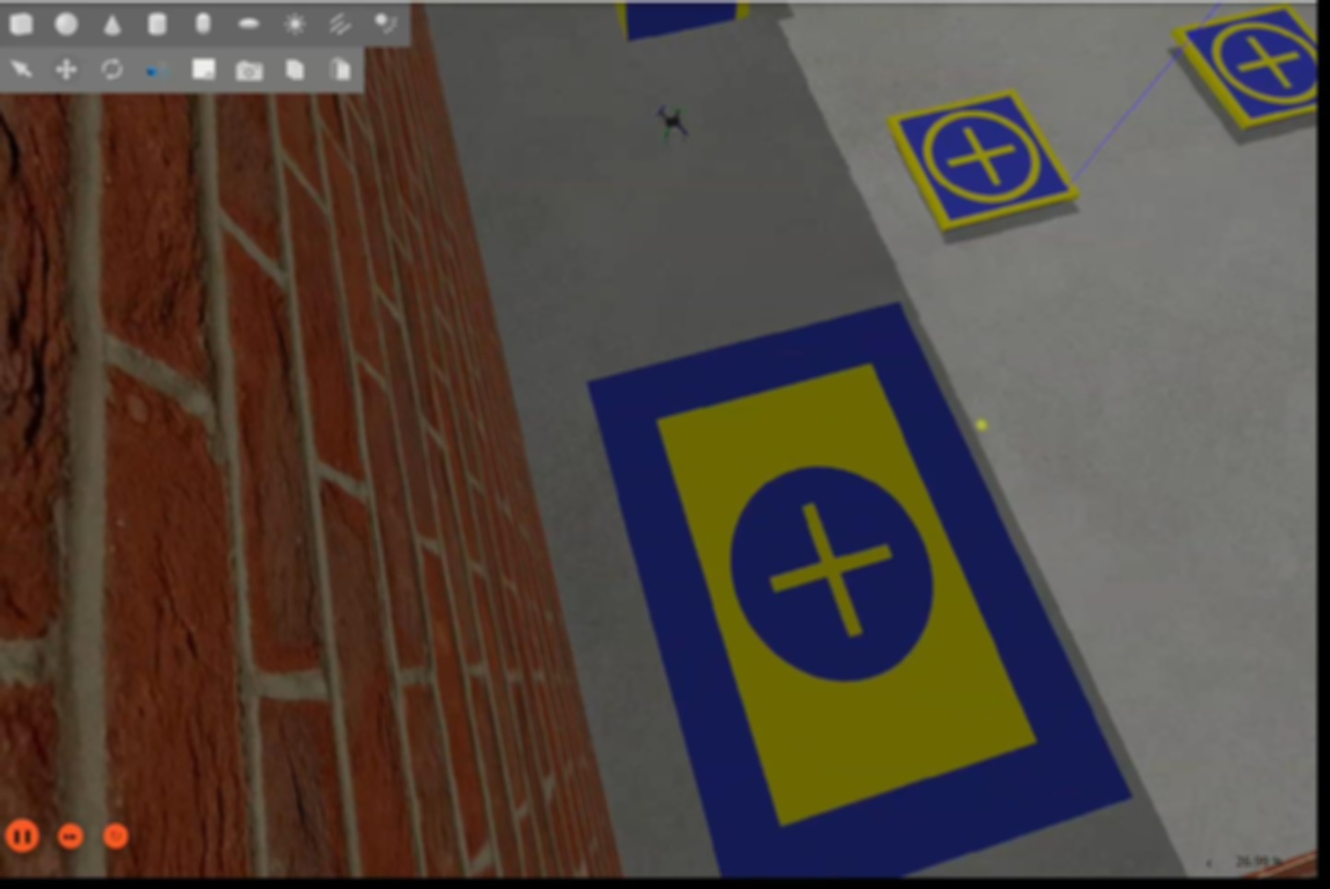large_base: (585, 301, 1129, 879)
small_base: (888, 89, 1076, 232), (1176, 6, 1314, 131)
